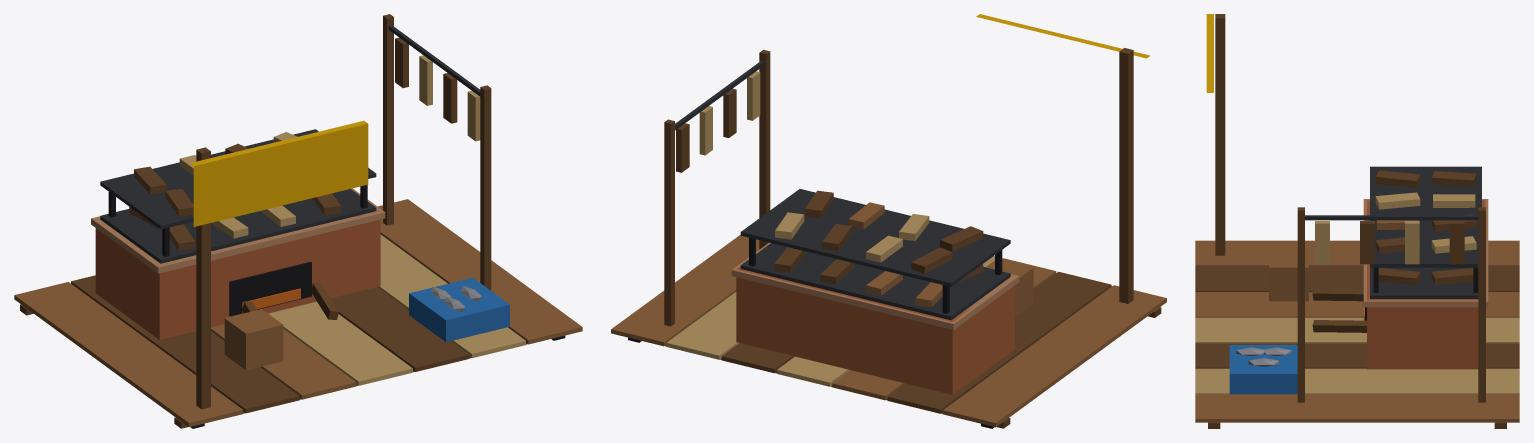
The model's file is prop_fish-racks.4374823002cd.glb.
3 views of the same model, side by side, from view 1: azimuth 30°, elevation 25°; view 2: azimuth 150°, elevation 25°; view 3: azimuth 270°, elevation 25° (orthographic). The views are drawn at different scales.
Parts seen in each view (by area): view 1: body; view 2: body; view 3: body.
Part boxes in pixels (bbox=[...]): body: bbox=[14, 14, 582, 428]; body: bbox=[611, 14, 1166, 428]; body: bbox=[1195, 14, 1519, 428].
Size of the model in its own units: 3.4 by 2.21 by 2.6.
